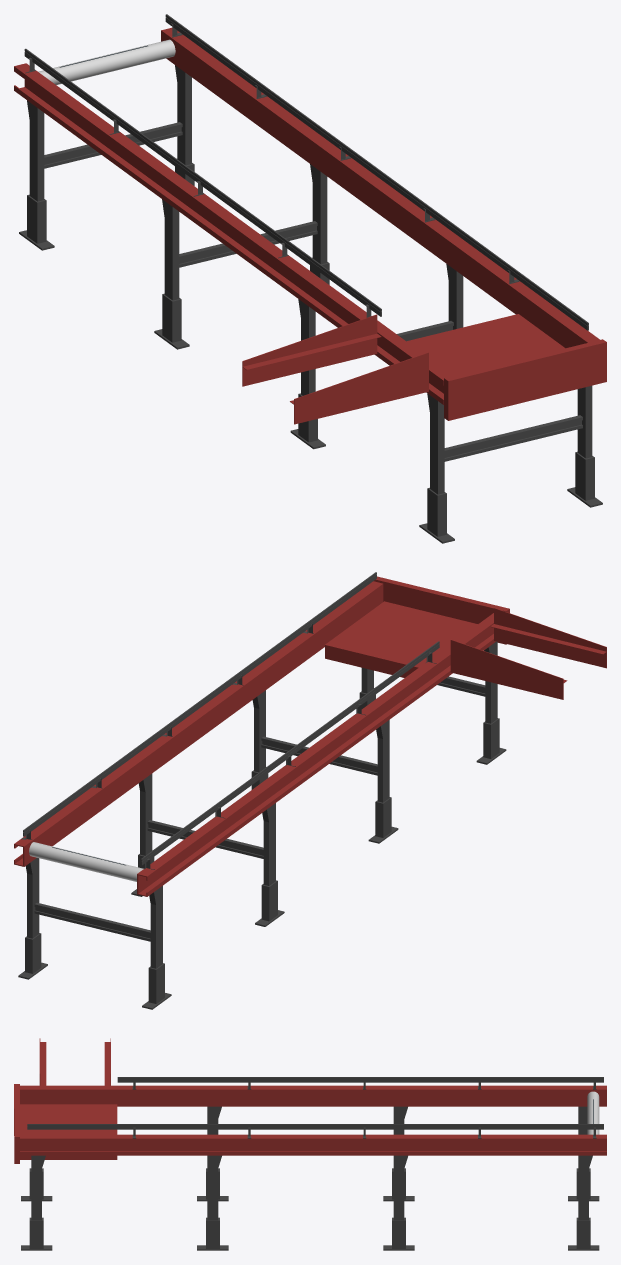
Rendered from conveyor-zhilang.glb.
The picture shows the model from 3 angles, top to bottom: view 1: azimuth 30°, elevation 25°; view 2: azimuth 150°, elevation 25°; view 3: azimuth 270°, elevation 25°; orthographic projection. The views are drawn at different scales.
Visible parts, largest first — view 1: conveyor-zhilang__Cube107, conveyor-zhilang__Cube112, conveyor-zhilang__Cube110, conveyor-zhilang__Cube108, conveyor-zhilang__Cube124, conveyor-zhilang__Cube106, conveyor-zhilang__Cube111, conveyor-zhilang__Cube109, conveyor-zhilang__Cube113, conveyor-zhilang__Cylinder025__island_0; view 2: conveyor-zhilang__Cube107, conveyor-zhilang__Cube109, conveyor-zhilang__Cube112, conveyor-zhilang__Cube110, conveyor-zhilang__Cube111, conveyor-zhilang__Cube106, conveyor-zhilang__Cube113, conveyor-zhilang__Cube108, conveyor-zhilang__Cube124, conveyor-zhilang__Cylinder025__island_0; view 3: conveyor-zhilang__Cube107, conveyor-zhilang__Cube110, conveyor-zhilang__Cube109, conveyor-zhilang__Cube106, conveyor-zhilang__Cube113, conveyor-zhilang__Cube111, conveyor-zhilang__Cube124, conveyor-zhilang__Cube112, conveyor-zhilang__Cube108, conveyor-zhilang__Cylinder025__island_0.
Part boxes in pixels (<box>): conveyor-zhilang__Cube107: <box>14,27,599,404</box>; conveyor-zhilang__Cube112: <box>242,314,428,424</box>; conveyor-zhilang__Cube110: <box>24,14,588,330</box>; conveyor-zhilang__Cube108: <box>444,339,606,420</box>; conveyor-zhilang__Cube124: <box>419,385,602,543</box>; conveyor-zhilang__Cube106: <box>154,164,329,349</box>; conveyor-zhilang__Cube111: <box>19,65,194,250</box>; conveyor-zhilang__Cube109: <box>406,314,564,375</box>; conveyor-zhilang__Cube113: <box>290,264,463,449</box>; conveyor-zhilang__Cylinder025__island_0: <box>38,39,175,84</box>; conveyor-zhilang__Cube107: <box>14,581,495,896</box>; conveyor-zhilang__Cube109: <box>325,601,477,677</box>; conveyor-zhilang__Cube112: <box>450,608,606,699</box>; conveyor-zhilang__Cube110: <box>23,572,439,865</box>; conveyor-zhilang__Cube111: <box>18,858,171,1009</box>; conveyor-zhilang__Cube106: <box>131,773,284,926</box>; conveyor-zhilang__Cube113: <box>251,690,398,843</box>; conveyor-zhilang__Cube108: <box>373,576,509,644</box>; conveyor-zhilang__Cube124: <box>359,641,506,764</box>; conveyor-zhilang__Cylinder025__island_0: <box>29,842,143,881</box>; conveyor-zhilang__Cube107: <box>20,1085,606,1155</box>; conveyor-zhilang__Cube110: <box>27,1077,603,1129</box>; conveyor-zhilang__Cube109: <box>20,1104,117,1159</box>; conveyor-zhilang__Cube106: <box>383,1106,414,1250</box>; conveyor-zhilang__Cube113: <box>197,1106,228,1250</box>; conveyor-zhilang__Cube111: <box>568,1106,599,1250</box>; conveyor-zhilang__Cube124: <box>21,1155,52,1250</box>; conveyor-zhilang__Cube112: <box>39,1038,110,1085</box>; conveyor-zhilang__Cube108: <box>14,1084,19,1163</box>; conveyor-zhilang__Cylinder025__island_0: <box>587,1091,599,1134</box>.
Size of the model in its own units: 0.8482 by 0.4978 by 2.16.
